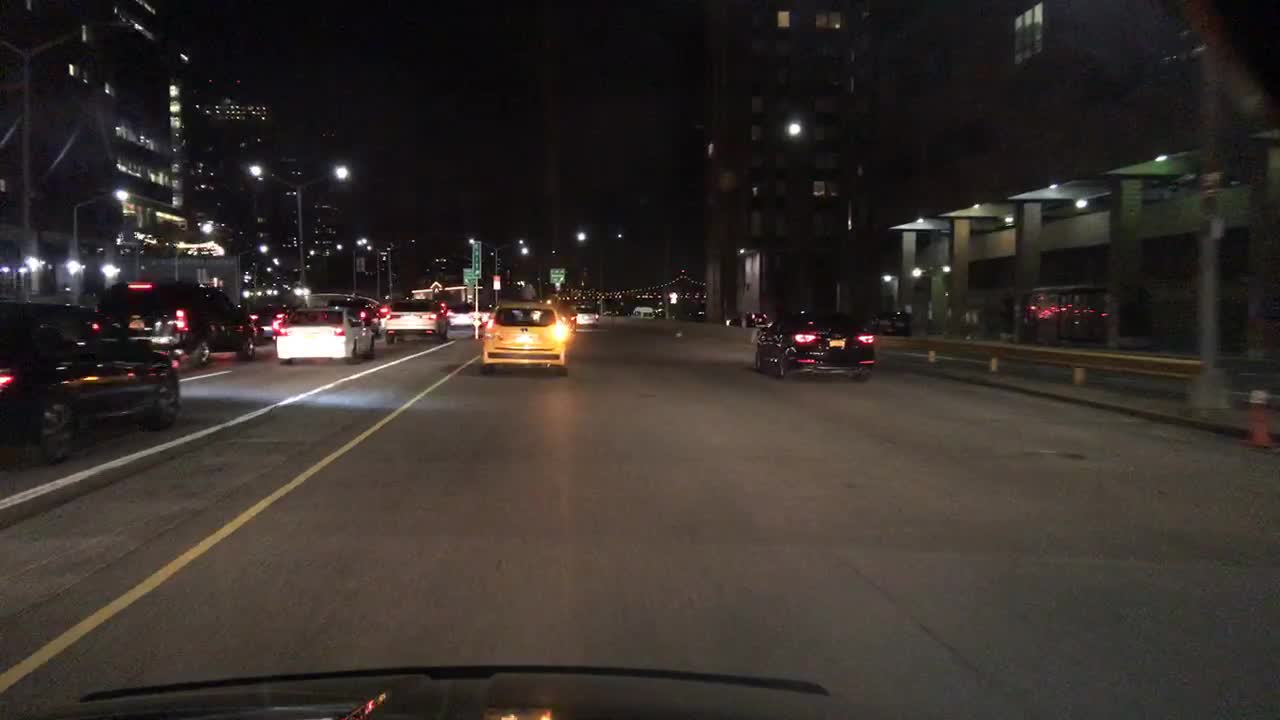bus: (1016, 280, 1157, 354)
car: (0, 299, 180, 469), (91, 275, 256, 371), (751, 305, 876, 381), (477, 280, 567, 380), (271, 304, 378, 368), (381, 295, 449, 346), (325, 293, 379, 334), (244, 300, 287, 337), (862, 307, 911, 336), (447, 300, 484, 331), (552, 299, 577, 332), (722, 314, 752, 329), (572, 307, 595, 326), (631, 302, 653, 320), (747, 307, 766, 327)
traffic sign: (469, 236, 482, 280), (460, 265, 476, 287), (550, 266, 565, 285), (489, 272, 501, 288)
